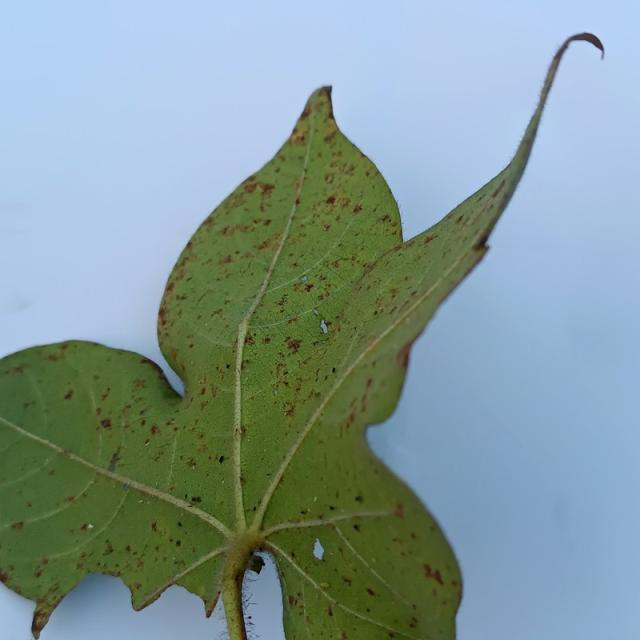Bacterial_Blight: (342, 375, 377, 430), (353, 255, 383, 281), (219, 221, 257, 239), (423, 563, 444, 586), (490, 175, 508, 200), (272, 361, 292, 383), (254, 181, 276, 200), (287, 336, 305, 357), (397, 342, 413, 365), (476, 230, 495, 249), (290, 126, 307, 144), (256, 237, 276, 251), (392, 502, 405, 519), (108, 453, 121, 470), (157, 305, 168, 325), (294, 176, 305, 195), (301, 103, 313, 118), (244, 182, 258, 194), (103, 541, 114, 555), (99, 388, 110, 402), (218, 255, 233, 265), (170, 348, 179, 363), (325, 195, 337, 206), (186, 457, 197, 469), (379, 214, 392, 224), (149, 425, 160, 436), (352, 204, 363, 215), (63, 389, 74, 400), (11, 521, 24, 530), (294, 192, 302, 206), (0, 569, 8, 583), (424, 235, 435, 245), (317, 292, 328, 302), (22, 400, 34, 409), (245, 335, 255, 345), (284, 408, 294, 418), (303, 283, 314, 292), (409, 616, 418, 627), (80, 523, 92, 531), (200, 400, 209, 410), (455, 214, 464, 224), (322, 320, 331, 330), (101, 419, 111, 428), (288, 595, 296, 606), (366, 588, 375, 597), (354, 494, 363, 503), (65, 496, 75, 504), (151, 521, 158, 532), (234, 426, 241, 437), (319, 582, 330, 589), (328, 605, 334, 617), (191, 496, 201, 503), (198, 377, 206, 385), (322, 224, 330, 231), (353, 524, 360, 532), (337, 635, 347, 640), (290, 551, 296, 559), (218, 455, 224, 463), (302, 508, 310, 514), (175, 539, 181, 546), (144, 439, 150, 446), (169, 486, 175, 492), (328, 505, 335, 510), (388, 636, 396, 640), (373, 309, 378, 315), (177, 522, 182, 527), (226, 363, 230, 369), (332, 367, 336, 373)
Cotton: (0, 59, 556, 639)
